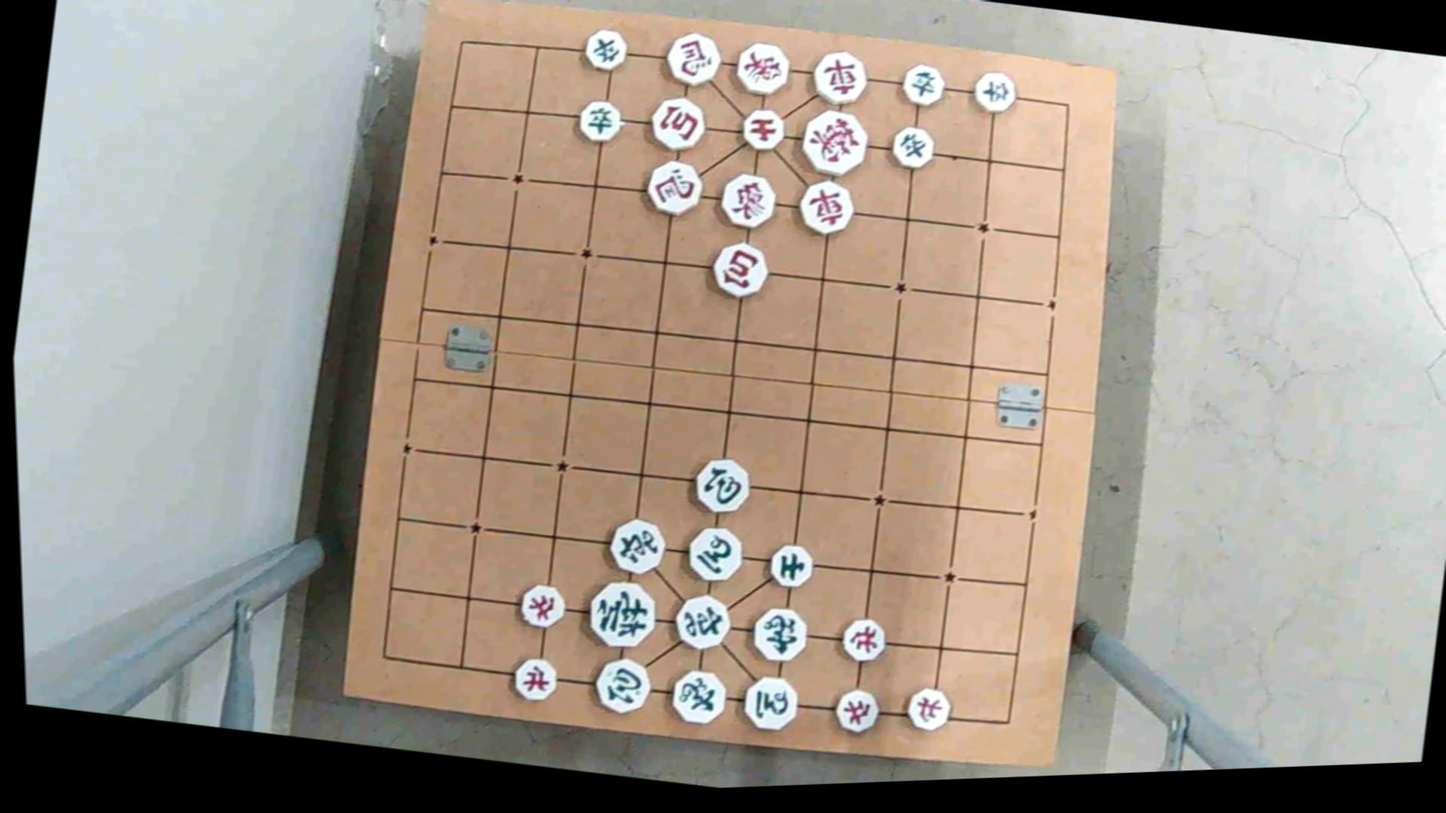cha_green: (667, 592, 734, 652), (605, 517, 670, 577)
cha_red: (807, 44, 873, 108), (793, 180, 857, 236)
jol_green: (570, 96, 623, 142), (887, 125, 937, 172), (896, 62, 947, 108), (579, 27, 630, 72), (970, 71, 1019, 115)
jol_red: (513, 582, 568, 630), (836, 614, 890, 662), (507, 654, 560, 702), (899, 686, 953, 732), (831, 687, 880, 733)
ma_green: (734, 672, 802, 733), (679, 523, 744, 585)
ma_red: (636, 157, 703, 218), (662, 29, 725, 89)
po_green: (590, 655, 656, 715), (685, 457, 751, 517)
po_red: (707, 243, 773, 303), (642, 93, 706, 151)
sa_green: (763, 538, 817, 588)
sa_red: (736, 105, 789, 151)
sang_green: (663, 665, 731, 729), (748, 602, 810, 665)
sang_red: (715, 169, 778, 231), (730, 39, 795, 98)
wang_green: (583, 574, 660, 652)
wang_red: (792, 103, 873, 179)
